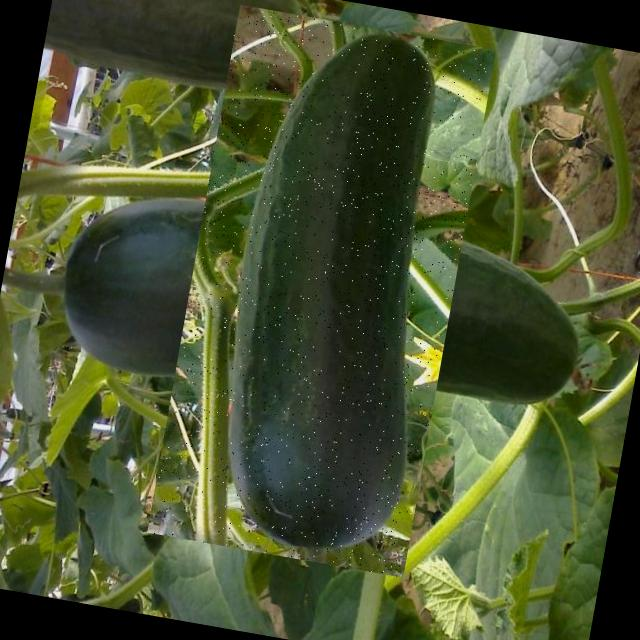Cucumber: (195, 12, 482, 562)
